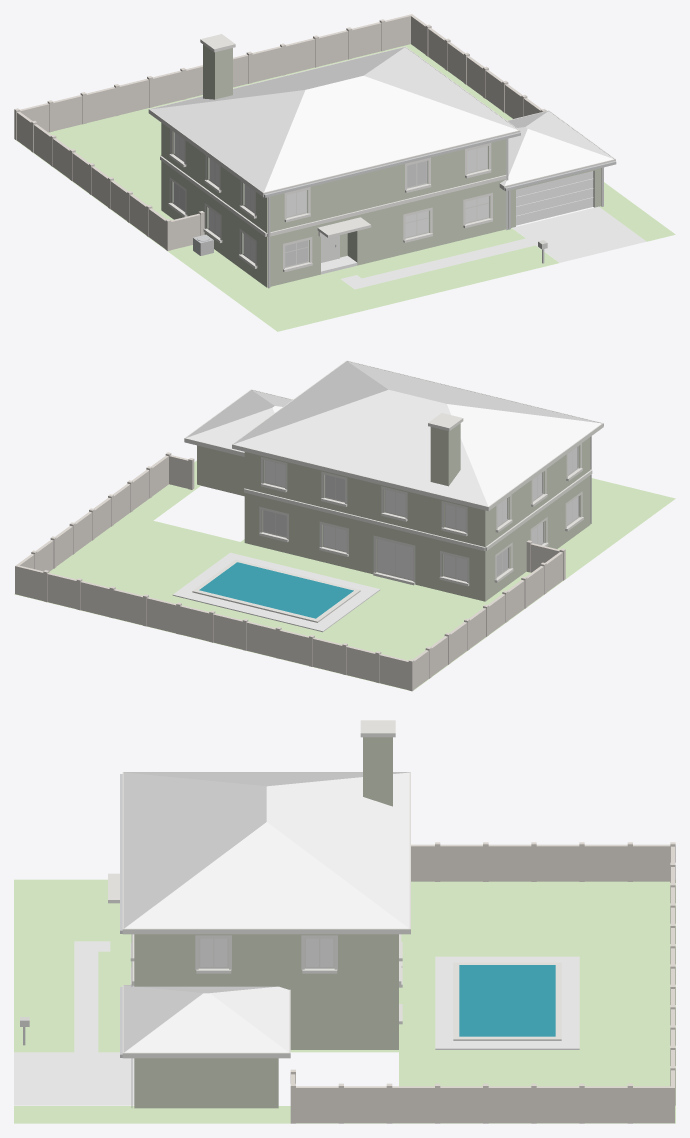
File: house_villa96.glb
The picture shows the model from 3 angles, top to bottom: view 1: azimuth 30°, elevation 25°; view 2: azimuth 150°, elevation 25°; view 3: azimuth 270°, elevation 25°; orthographic projection. The views are drawn at different scales.
Parts seen in each view (by area): view 1: house_villa96_Roof, house_villa96_Walls, house_villa96_Lawn, house_villa96_Walls2, house_villa96_Trim, house_villa96_Site, house_villa96_Glass, house_villa96_Doors, house_villa96_Details, house_villa96_Frames, house_villa96_WindowsLit; view 2: house_villa96_Roof, house_villa96_Lawn, house_villa96_Walls, house_villa96_Walls2, house_villa96_Trim, house_villa96_Glass, house_villa96_Water, house_villa96_Site, house_villa96_Frames, house_villa96_WindowsLit; view 3: house_villa96_Lawn, house_villa96_Roof, house_villa96_Walls, house_villa96_Walls2, house_villa96_Site, house_villa96_Trim, house_villa96_Water, house_villa96_Glass, house_villa96_Details.
Boxes of the visible parts, x1,y1,x2,y2 form: house_villa96_Roof: (150,47,613,192); house_villa96_Walls: (161,44,601,287); house_villa96_Lawn: (14,44,675,331); house_villa96_Walls2: (14,14,546,250); house_villa96_Trim: (148,34,615,272); house_villa96_Site: (321,206,646,289); house_villa96_Glass: (174,133,488,261); house_villa96_Doors: (516,171,593,225); house_villa96_Details: (193,132,616,288); house_villa96_Frames: (172,132,489,267); house_villa96_WindowsLit: (173,161,426,266); house_villa96_Roof: (186,361,601,506); house_villa96_Lawn: (14,460,675,690); house_villa96_Walls: (197,423,590,601); house_villa96_Walls2: (15,452,565,691); house_villa96_Trim: (184,360,603,622); house_villa96_Glass: (265,447,578,580); house_villa96_Water: (199,562,353,618); house_villa96_Site: (172,552,380,632); house_villa96_Frames: (262,446,579,581); house_villa96_WindowsLit: (263,475,508,576); house_villa96_Lawn: (14,879,675,1123); house_villa96_Roof: (123,772,409,1052); house_villa96_Walls: (134,737,398,1108); house_villa96_Walls2: (290,842,675,1123); house_villa96_Site: (14,941,579,1105); house_villa96_Trim: (108,720,561,1058); house_villa96_Water: (459,965,555,1036); house_villa96_Glass: (200,938,333,966); house_villa96_Details: (23,774,132,1107).
Size of the model in its own units: 96 by 37.62 by 110.
